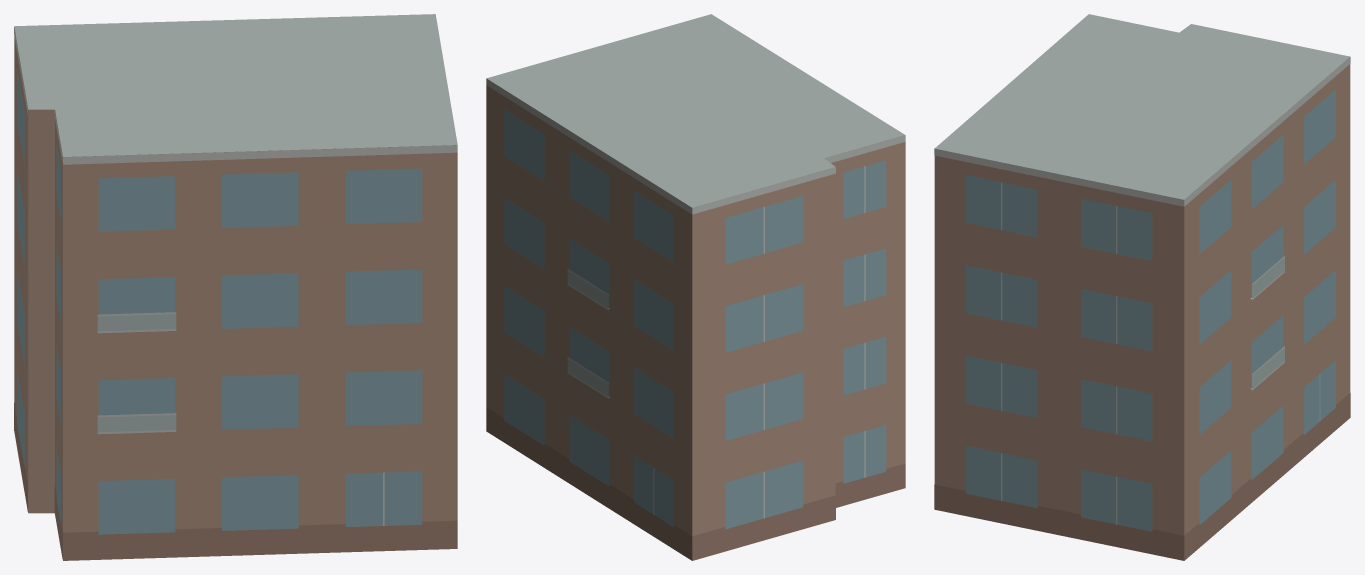
The model's file is survey-upis-32722731.glb.
3 renders of one model, left to right at view 1: azimuth 30°, elevation 25°; view 2: azimuth 150°, elevation 25°; view 3: azimuth 270°, elevation 25°, orthographic. The views are drawn at different scales.
Parts seen in each view (by area): view 1: survey-upis-32722731.tmp; view 2: survey-upis-32722731.tmp; view 3: survey-upis-32722731.tmp.
Boxes of the visible parts, <box> form: survey-upis-32722731.tmp: <box>14,14,457,560</box>; survey-upis-32722731.tmp: <box>486,14,905,560</box>; survey-upis-32722731.tmp: <box>934,14,1350,560</box>.
Bounding box in the file's own units: 14.14 × 12.8 × 13.38.
